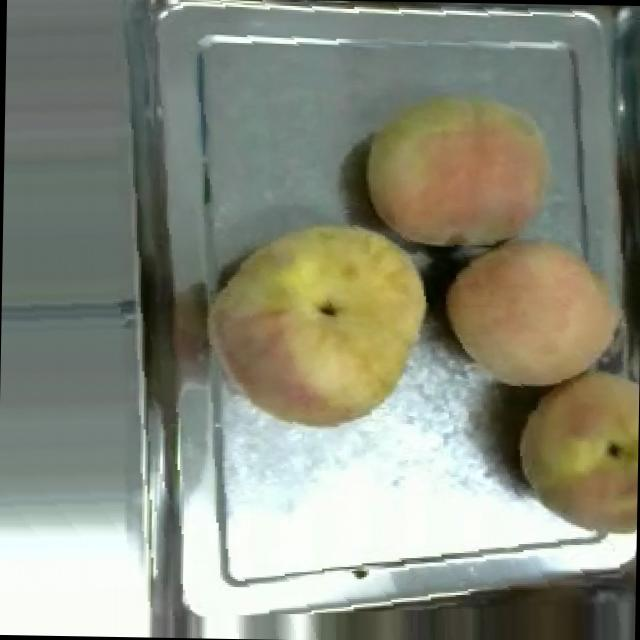Fruit: (202, 208, 436, 440), (353, 80, 564, 258), (435, 224, 632, 405), (502, 354, 639, 556)
